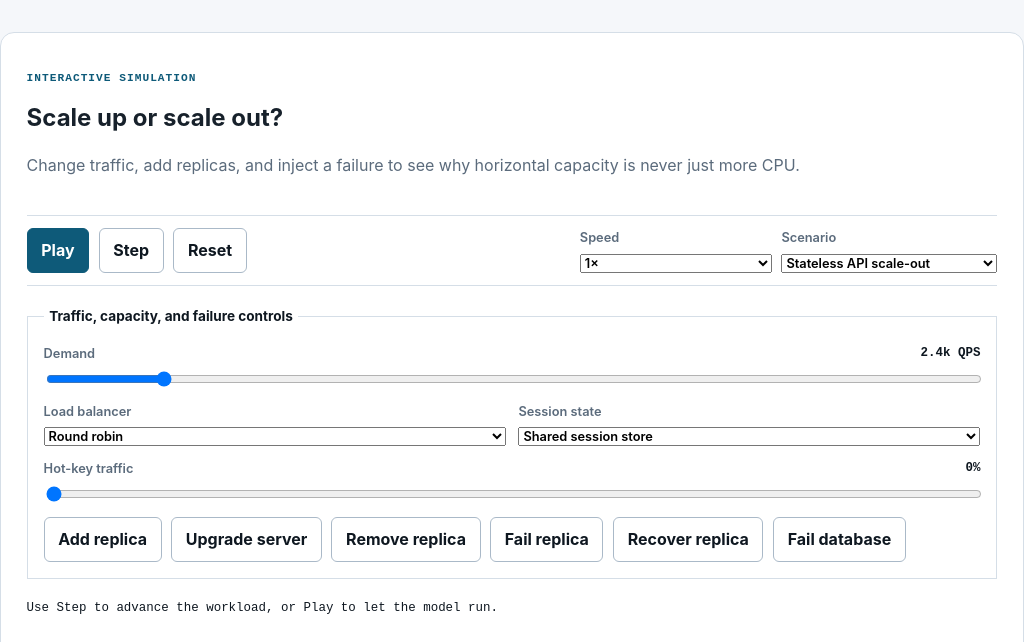
Test: simulation component boundaries › pauses autoplay when the engine reports completion
Click the button "Play": (58, 250) top-left (27, 228), bottom-right (89, 273)
Wait 800 ms
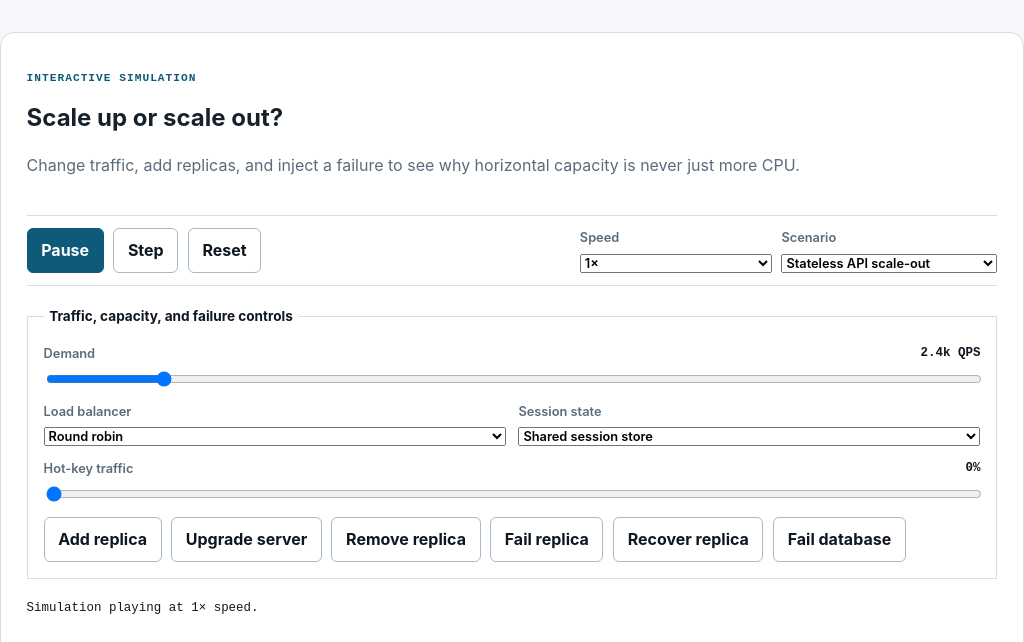
Click the button "Add replica": (103, 540) top-left (44, 517), bottom-right (162, 562)
Wait 2400 ms
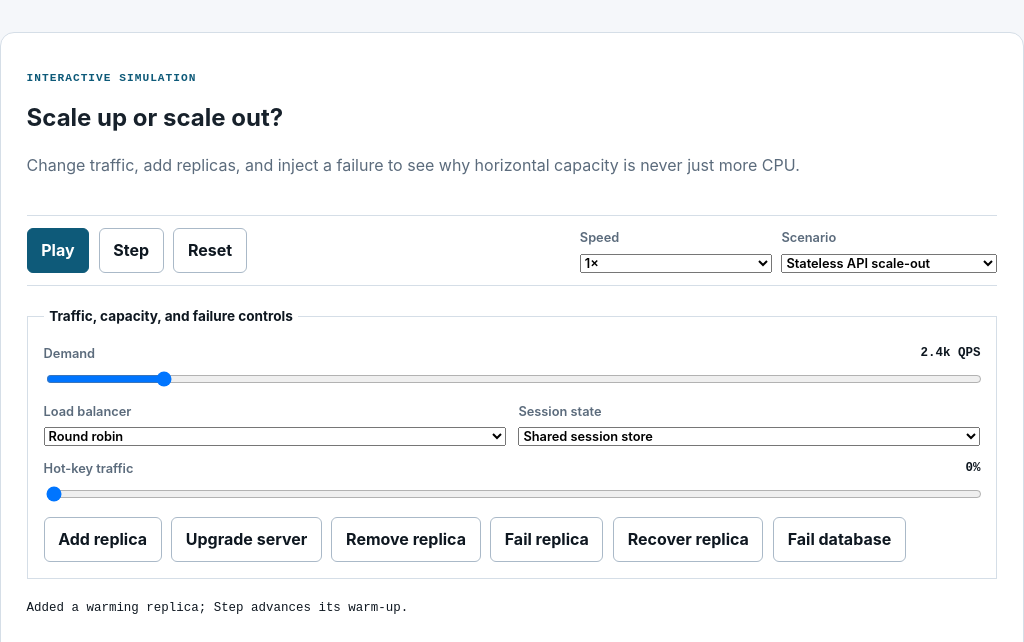
expect the button "Play" is shown: met, box top-left (27, 228), bottom-right (89, 273)
